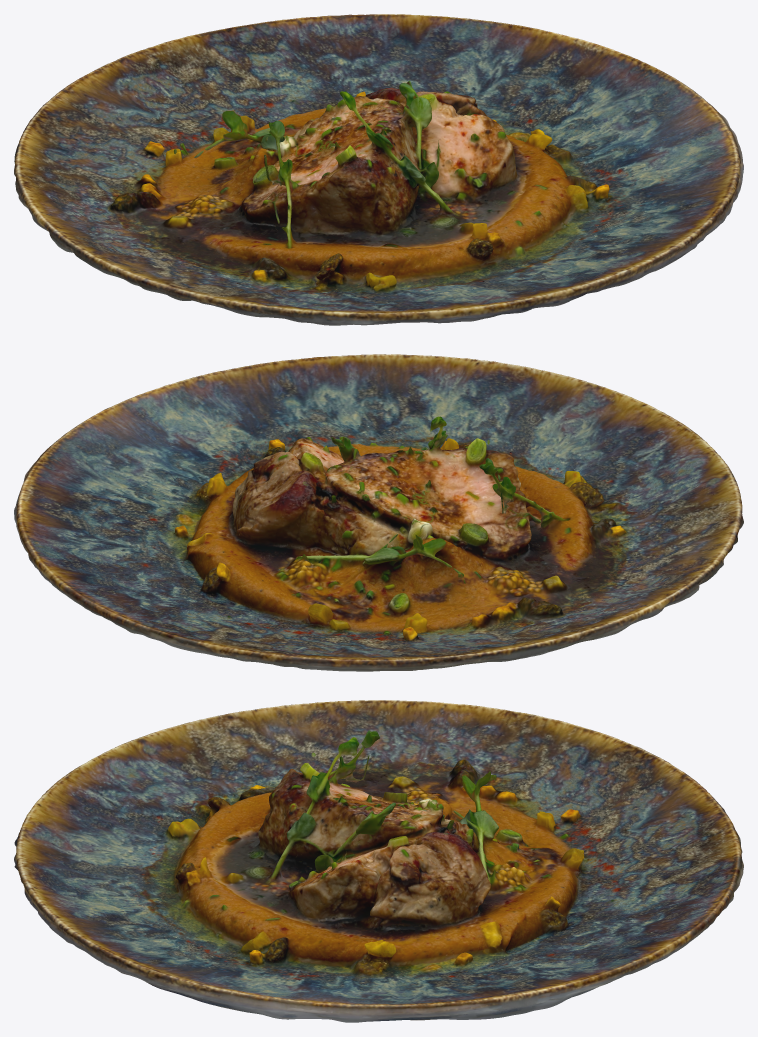
The model's file is veau.glb.
3 views of the same model, one above another, from view 1: azimuth 30°, elevation 25°; view 2: azimuth 150°, elevation 25°; view 3: azimuth 270°, elevation 25° (orthographic).
Parts seen in each view (by area): view 1: _8898ADFA_9AAE_4415_8634_07285A7B9263; view 2: _8898ADFA_9AAE_4415_8634_07285A7B9263; view 3: _8898ADFA_9AAE_4415_8634_07285A7B9263.
Part boxes in pixels (x1,y1,x2,y2): _8898ADFA_9AAE_4415_8634_07285A7B9263: (14,14,743,325); _8898ADFA_9AAE_4415_8634_07285A7B9263: (14,354,743,671); _8898ADFA_9AAE_4415_8634_07285A7B9263: (14,700,743,1022).
Bounding box in the file's own units: 0.3243 × 0.0695 × 0.3231.
Materials: 1 (1 with a texture image).
